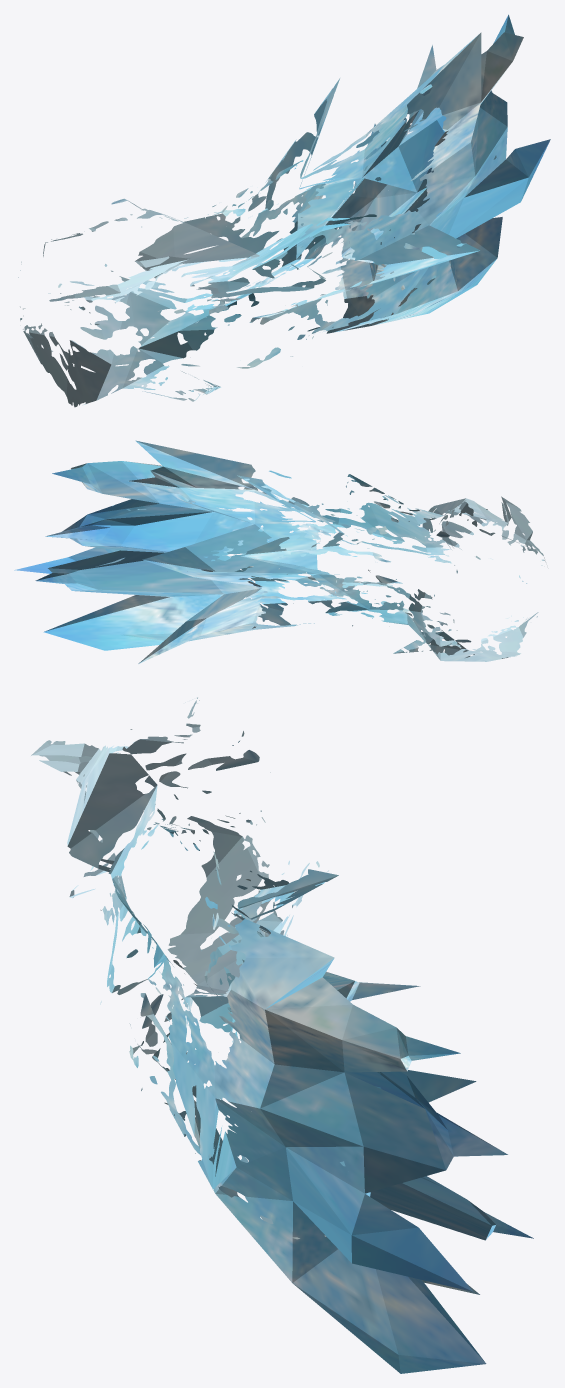
Rendered from wolverine_lthand_ice.glb.
The picture shows the model from 3 angles, top to bottom: view 1: azimuth 30°, elevation 25°; view 2: azimuth 150°, elevation 25°; view 3: azimuth 270°, elevation 25°; orthographic projection. The views are drawn at different scales.
Visible parts, largest first — view 1: wolverine_lthand_ice_0; view 2: wolverine_lthand_ice_0; view 3: wolverine_lthand_ice_0.
Boxes of the visible parts, x1,y1,x2,y2 form: wolverine_lthand_ice_0: (18,14,550,407); wolverine_lthand_ice_0: (14,440,545,663); wolverine_lthand_ice_0: (31,697,533,1373).
Size of the model in its own units: 23.15 by 9.76 by 11.06.
Materials: 1 (1 with a texture image).
